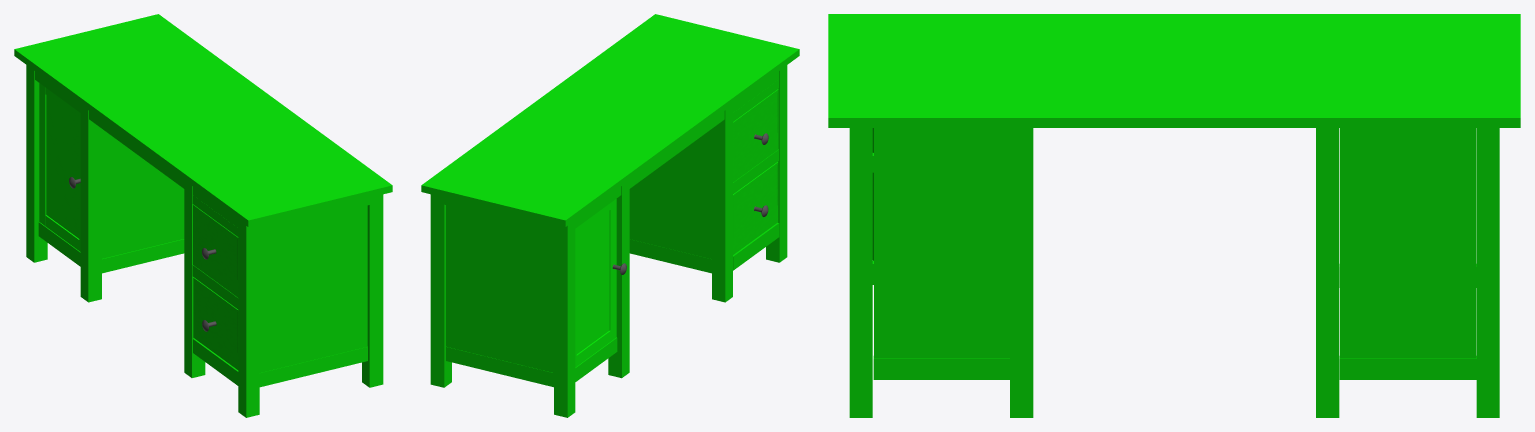
3 views of the same model, side by side, from view 1: azimuth 30°, elevation 25°; view 2: azimuth 150°, elevation 25°; view 3: azimuth 270°, elevation 25° (orthographic). The views are drawn at different scales.
Parts seen in each view (by area): view 1: Table _Table Morilka_0, Table Left Door, Table Left Door.002, Table Left Door.003; view 2: Table _Table Morilka_0, Table Left Door, Table Left Door.002, Table Left Door.003; view 3: Table _Table Morilka_0.
Boxes of the visible parts, x1,y1,x2,y2 form: Table _Table Morilka_0: [14, 14, 392, 417]; Table Left Door: [39, 83, 80, 251]; Table Left Door.002: [193, 277, 238, 369]; Table Left Door.003: [193, 204, 238, 297]; Table _Table Morilka_0: [421, 14, 799, 417]; Table Left Door: [575, 199, 616, 367]; Table Left Door.002: [733, 162, 778, 254]; Table Left Door.003: [733, 89, 778, 182]; Table _Table Morilka_0: [828, 14, 1520, 417].
Size of the model in its own units: 57.76 by 74.5 by 155.
Materials: 4 (3 with a texture image).
